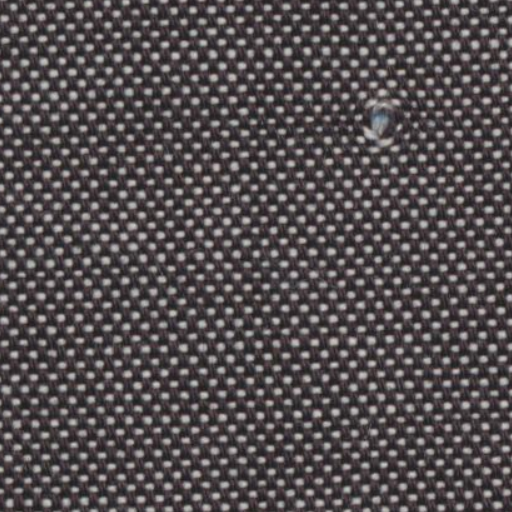PoDong: (346, 75, 425, 174)
